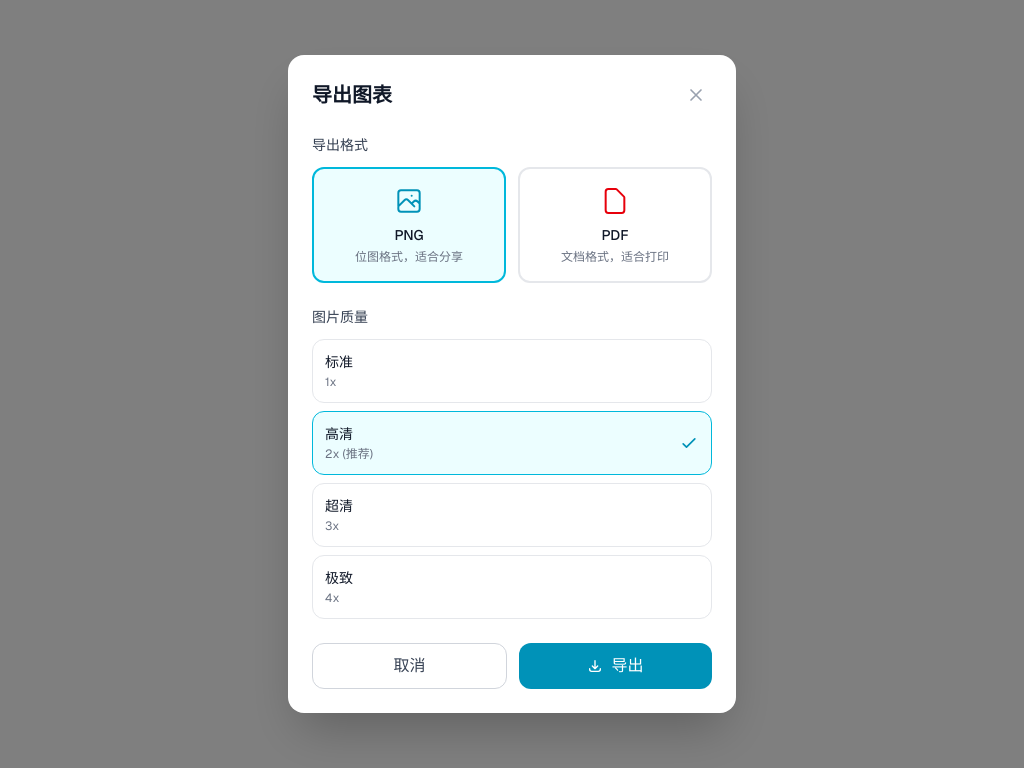
Test: ExportDialog › should hide quality options for PDF format
Click the button "PDF 文档格式，适合打印".
click(615, 225)  # box top-left (518, 167), bottom-right (712, 283)
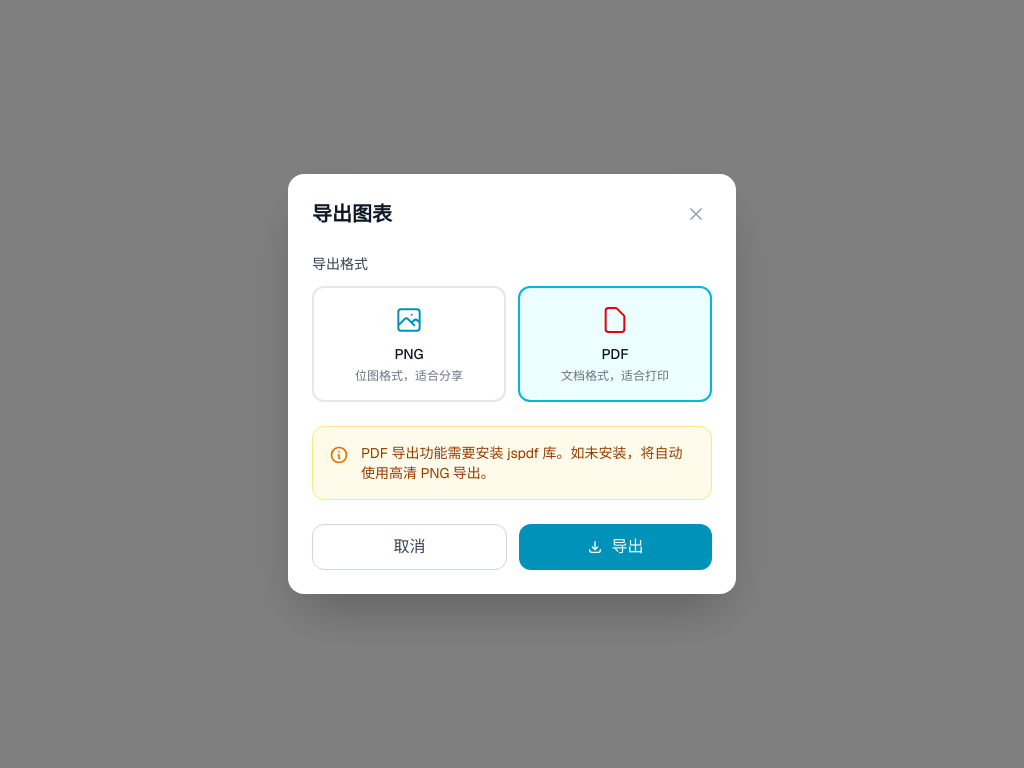
expect the text "图片质量" is gone: met
